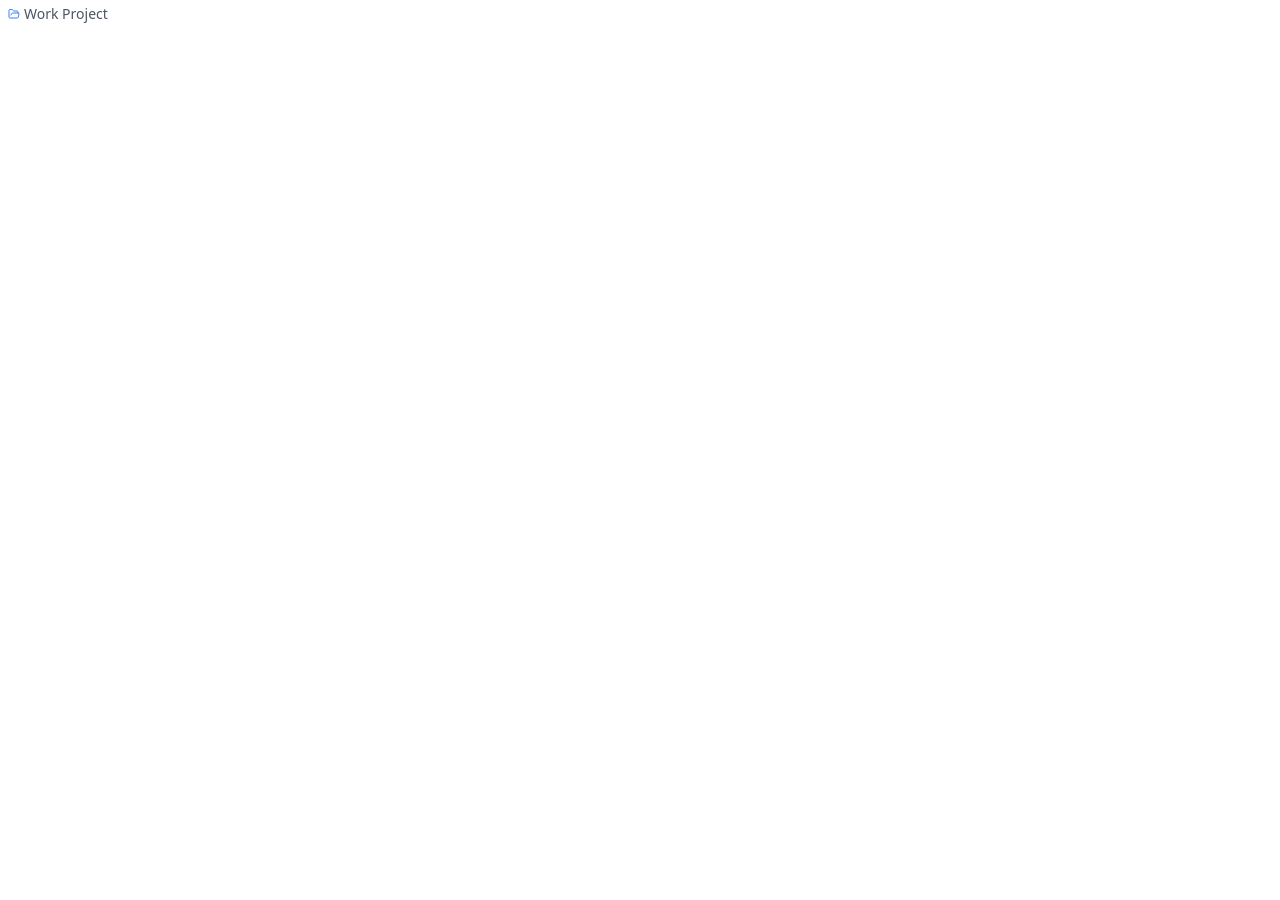
ProjectPicker › shows remove option when a project is selected
Step 1. Click the text "Work Project" → x=58, y=14, box x1=8 y1=4 x2=108 y2=23
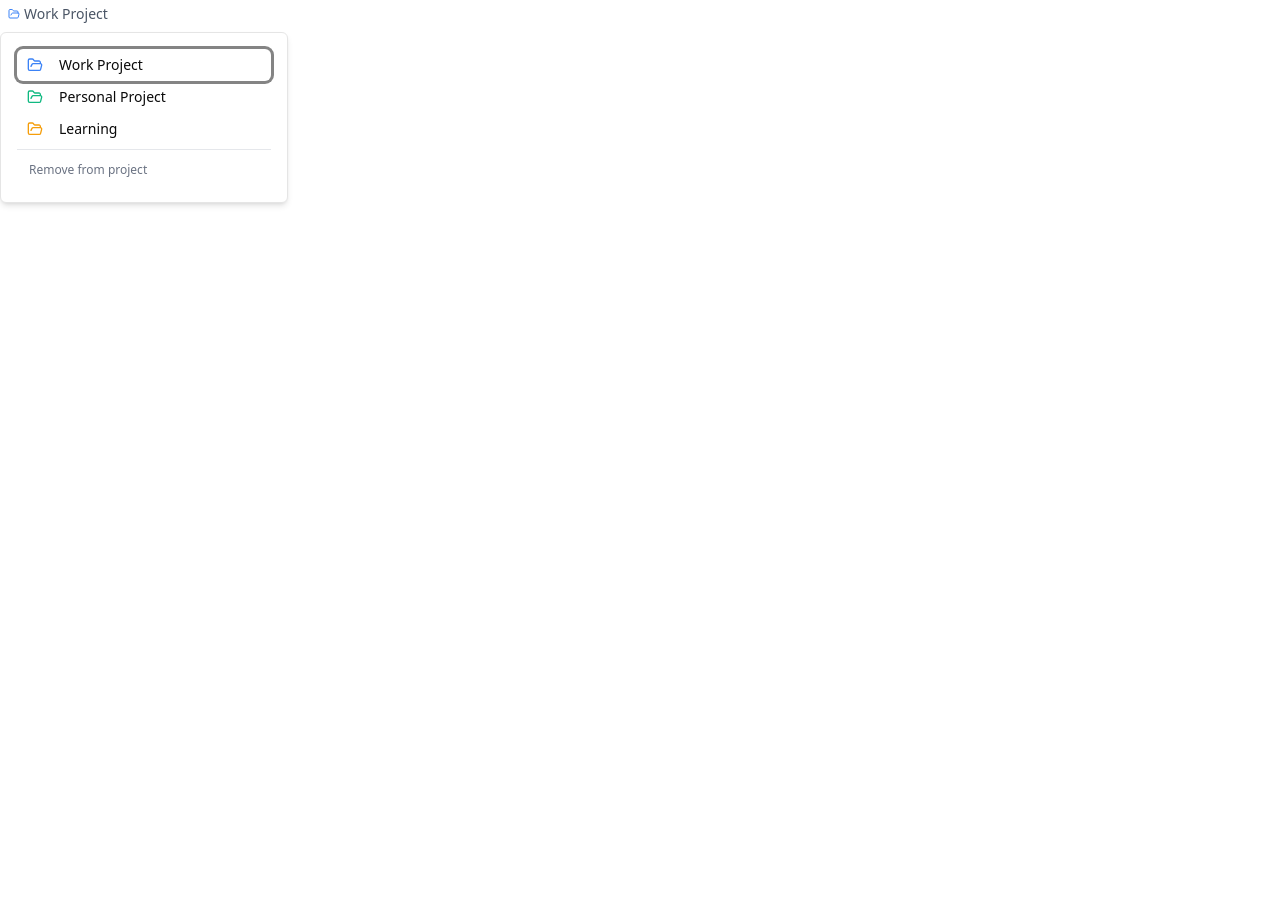
expect the button "Remove from project" is shown: met, box x1=17 y1=154 x2=271 y2=186
